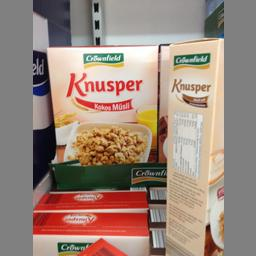cereal: (46, 44, 159, 164)
